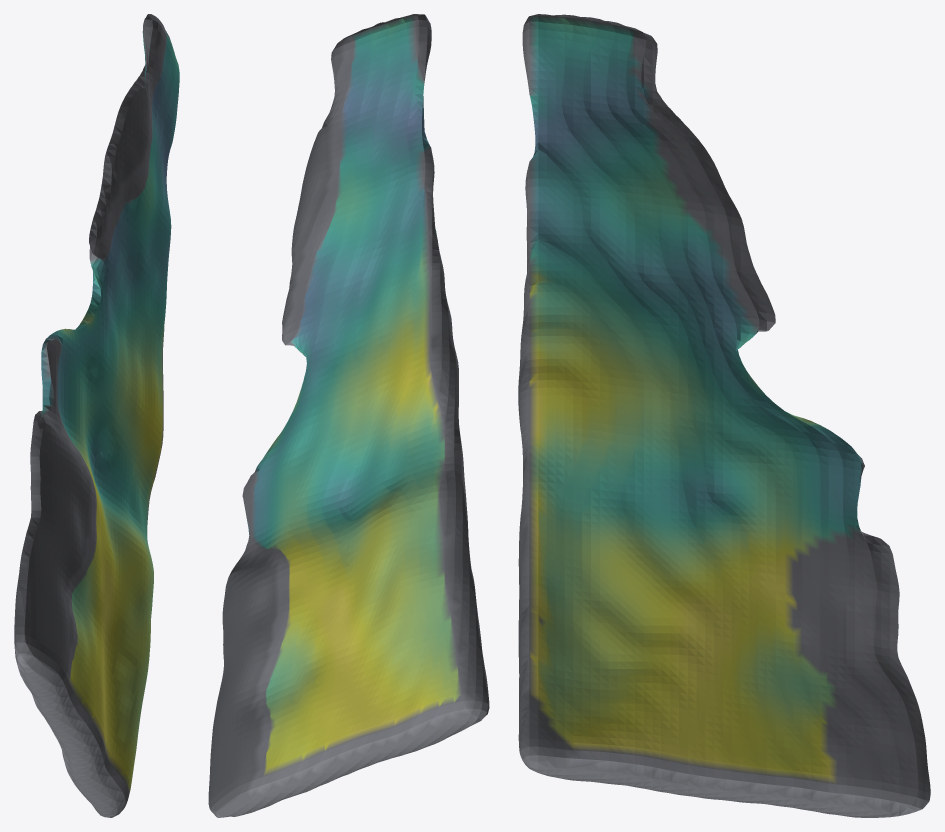
File: crop1031.glb
The picture shows the model from 3 angles, left to right: view 1: azimuth 30°, elevation 25°; view 2: azimuth 150°, elevation 25°; view 3: azimuth 270°, elevation 25°; orthographic projection. The views are drawn at different scales.
Parts seen in each view (by area): view 1: geometry_0; view 2: geometry_0; view 3: geometry_0.
Boxes of the visible parts, box(x1,y1,x2,y2) form: geometry_0: box(14, 14, 179, 817); geometry_0: box(208, 14, 489, 817); geometry_0: box(518, 14, 930, 817).
Bounding box in the file's own units: 129 × 795 × 375.
